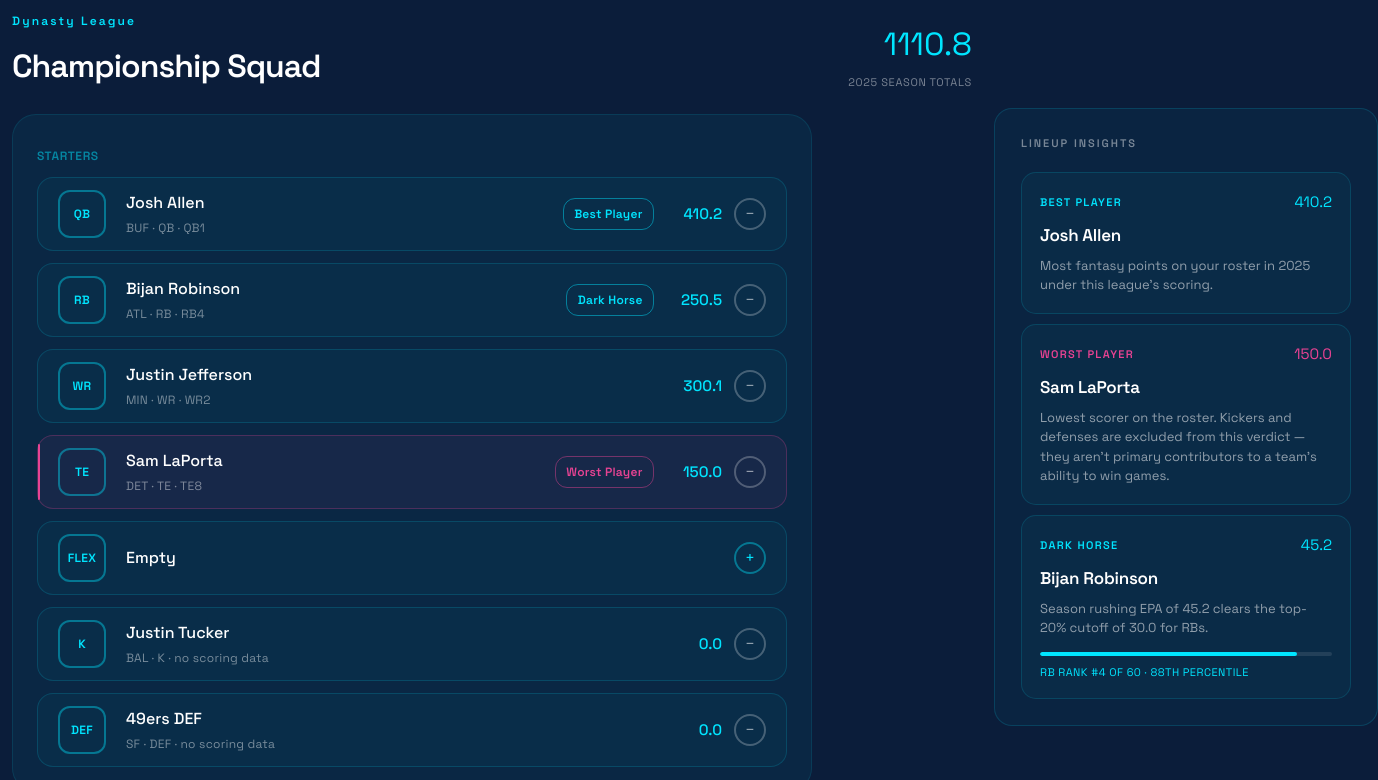
it: ViewLineupPanel › loading, error, and insights refresh › refetches /lineup-insights after removing a starter, without showing the roster skeleton
Expected: the text "Best Player" is shown, [563,198,654,230]
Click the button named "Remove player from WR". click: {"x": 750, "y": 386}
box: [734,370,766,402]
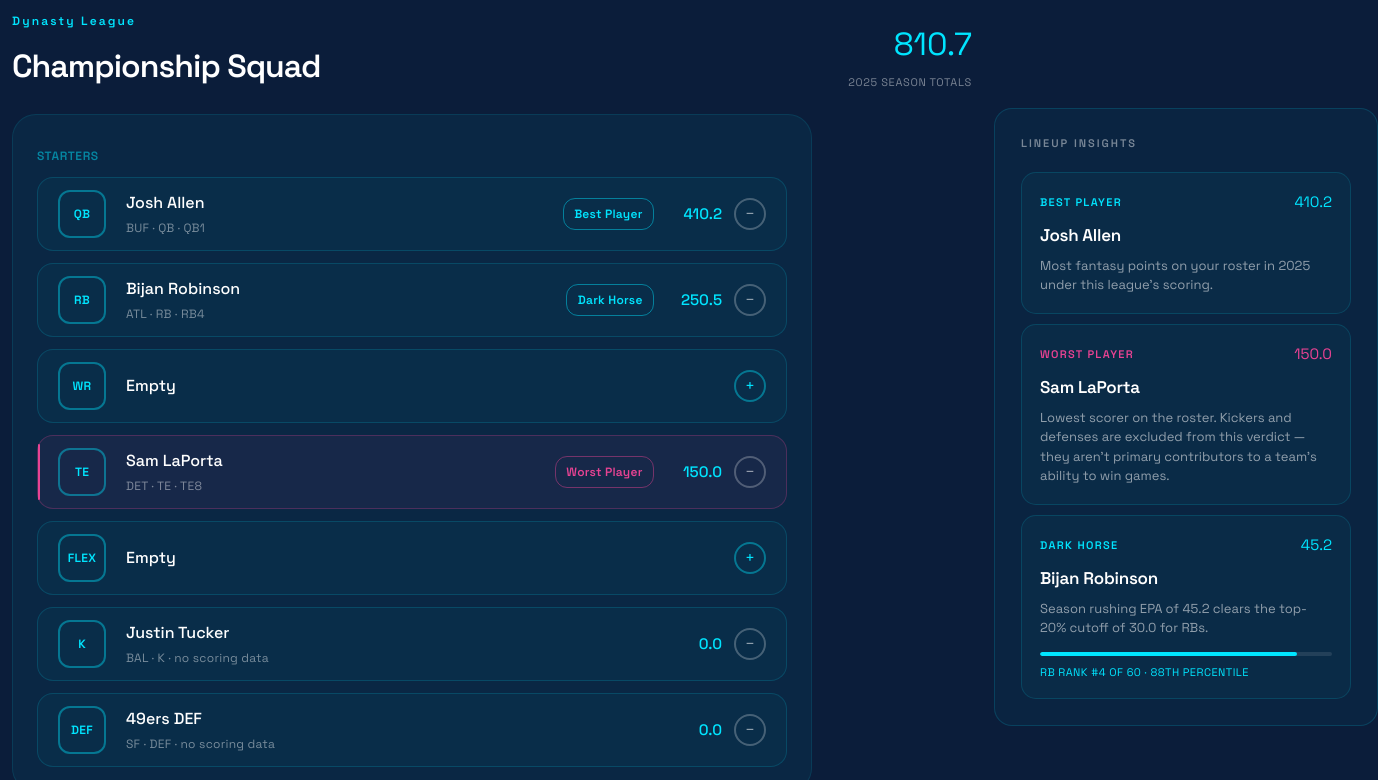
Expected: the heading "Championship Squad" is shown, [12,42,320,90]
Result: the button "Justin Jefferson" is gone
